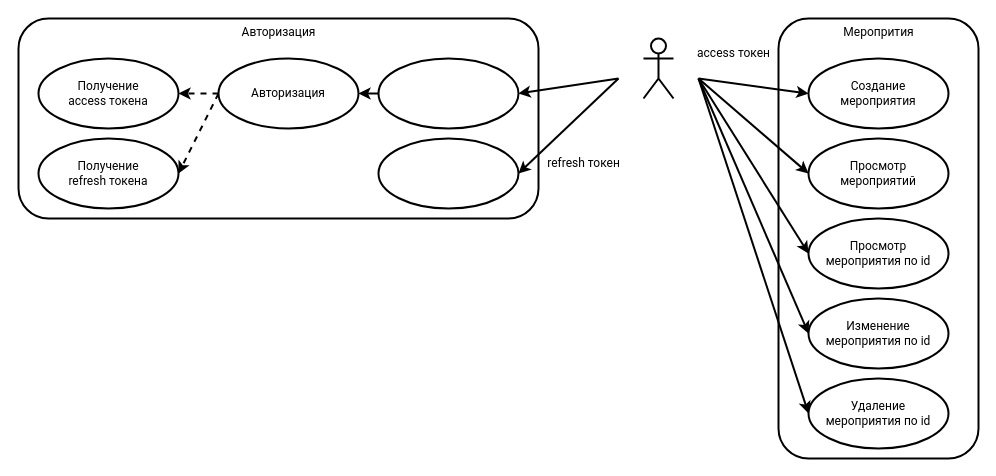
Some shapes in this 996 by 476 pixel diagram are drawn without their labels. The shapes that lost their labels are listed below. From the top down, each one's centre as x and y in pixels, then its label:
(658,68): Пользователь
(448,93): Регистрация
(448,173): Получение нового access токена
